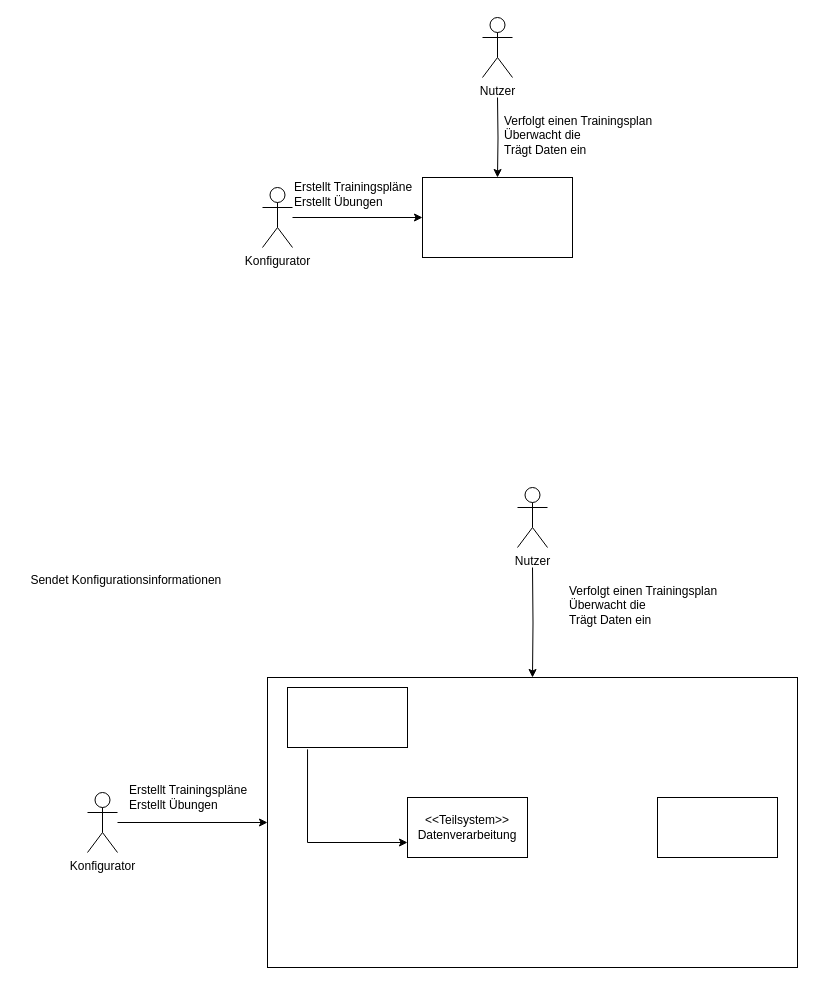
Some shapes in this 815 by 985 pixel diagram are drawn without their labels. Each missing label, with the box of its shape:
<<System>> GUI Datenverarbeitung Datenaufnahme Persistenz: (422, 176, 572, 258)
<<Teilsystem>> Datenaufnahme: (656, 796, 778, 858)
<<Teilsystem>> GUI: (286, 686, 408, 748)
